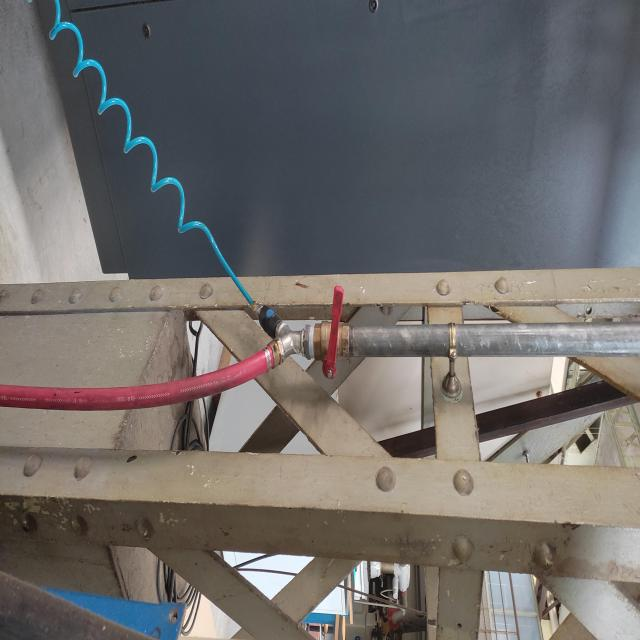closed_valve: (310, 282, 354, 382)
